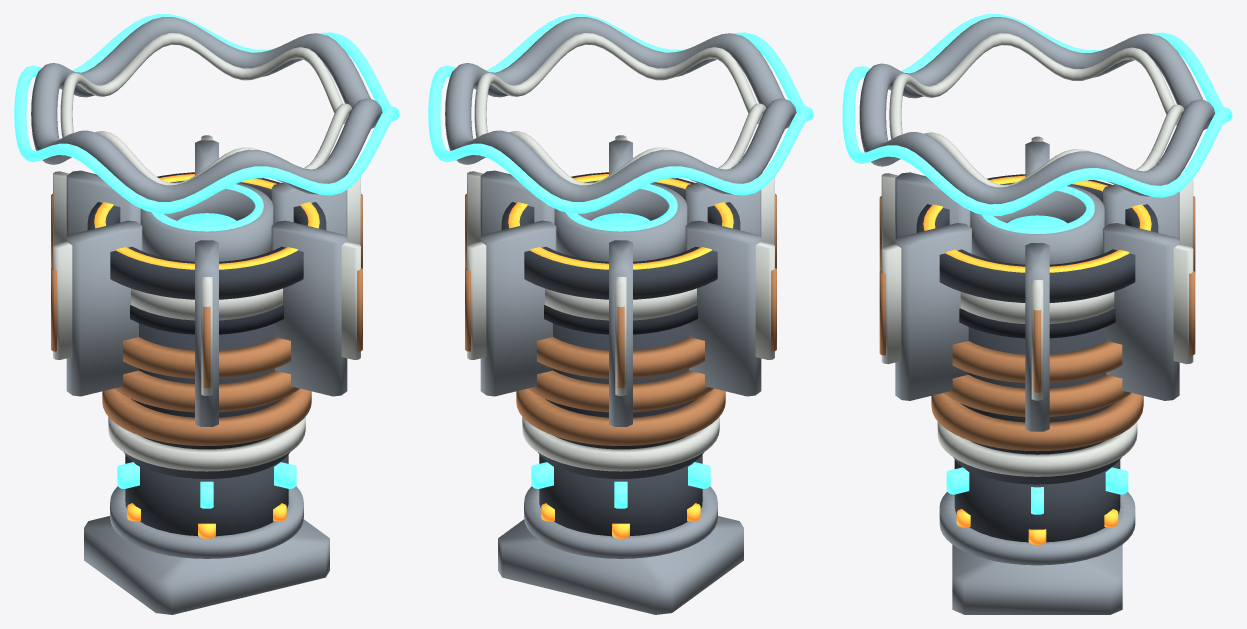
Rendered from M01-020_short_wave_resonator.fbx.
The picture shows the model from 3 angles, left to right: view 1: azimuth 30°, elevation 25°; view 2: azimuth 150°, elevation 25°; view 3: azimuth 270°, elevation 25°; orthographic projection.
Visible parts, largest first — view 1: M01_020_WAVE_RING_MAIN, M01_020_Mount_Front_Key, M01_020_Waveguide_Rib_04, M01_020_Waveguide_Rib_06, M01_020_WAVE_RING_CYAN, M01_020_Rear_Power_Block, M01_020_Outer_Nose_Band, M01_020_WAVE_RING_INNER, M01_020_Rear_Induction_Coil, M01_020_Front_Emitter_Aperture, M01_020_Rear_Bolt_Flange, M01_020_Main_Body_Ceramic_Rim (+20 smaller); view 2: M01_020_WAVE_RING_MAIN, M01_020_Mount_Front_Key, M01_020_Waveguide_Rib_02, M01_020_Waveguide_Rib_04, M01_020_WAVE_RING_CYAN, M01_020_Rear_Power_Block, M01_020_Outer_Nose_Band, M01_020_WAVE_RING_INNER, M01_020_Rear_Induction_Coil, M01_020_Front_Emitter_Aperture, M01_020_Rear_Bolt_Flange, M01_020_Main_Body_Ceramic_Rim (+20 smaller); view 3: M01_020_WAVE_RING_MAIN, M01_020_Waveguide_Rib_02, M01_020_Waveguide_Rib_06, M01_020_Mount_Front_Key, M01_020_WAVE_RING_CYAN, M01_020_Rear_Power_Block, M01_020_Outer_Nose_Band, M01_020_WAVE_RING_INNER, M01_020_Rear_Induction_Coil, M01_020_Front_Emitter_Aperture, M01_020_Rear_Bolt_Flange, M01_020_Main_Body_Ceramic_Rim (+22 smaller).
Boxes of the visible parts, x1,y1,x2,y2 form: M01_020_WAVE_RING_MAIN: (31,17,382,201); M01_020_Mount_Front_Key: (84,516,329,614); M01_020_Waveguide_Rib_04: (66,220,142,396); M01_020_Waveguide_Rib_06: (271,220,347,396); M01_020_WAVE_RING_CYAN: (14,14,399,213); M01_020_Rear_Power_Block: (125,455,288,536); M01_020_Outer_Nose_Band: (87,172,326,299); M01_020_WAVE_RING_INNER: (60,33,352,185); M01_020_Rear_Induction_Coil: (102,388,311,445); M01_020_Front_Emitter_Aperture: (140,181,273,261); M01_020_Rear_Bolt_Flange: (110,486,303,558); M01_020_Main_Body_Ceramic_Rim: (108,417,305,471); M01_020_WAVE_RING_MAIN: (445,17,796,201); M01_020_Mount_Front_Key: (498,516,743,614); M01_020_Waveguide_Rib_02: (480,220,556,396); M01_020_Waveguide_Rib_04: (685,220,761,396); M01_020_WAVE_RING_CYAN: (428,14,813,213); M01_020_Rear_Power_Block: (539,455,702,536); M01_020_Outer_Nose_Band: (501,172,740,299); M01_020_WAVE_RING_INNER: (474,33,766,185); M01_020_Rear_Induction_Coil: (516,388,725,445); M01_020_Front_Emitter_Aperture: (554,181,687,261); M01_020_Rear_Bolt_Flange: (524,486,717,558); M01_020_Main_Body_Ceramic_Rim: (522,417,719,471); M01_020_WAVE_RING_MAIN: (859,17,1214,204); M01_020_Waveguide_Rib_02: (1103,223,1179,400); M01_020_Waveguide_Rib_06: (895,223,971,400); M01_020_Mount_Front_Key: (952,544,1122,614); M01_020_WAVE_RING_CYAN: (842,14,1232,216); M01_020_Rear_Power_Block: (954,460,1120,542); M01_020_Outer_Nose_Band: (916,174,1158,302); M01_020_WAVE_RING_INNER: (889,33,1184,187); M01_020_Rear_Induction_Coil: (931,393,1143,451); M01_020_Front_Emitter_Aperture: (970,183,1104,264); M01_020_Rear_Bolt_Flange: (939,492,1135,565); M01_020_Main_Body_Ceramic_Rim: (937,421,1137,476).
Size of the model in its own units: 82.4 by 113 by 82.4.
